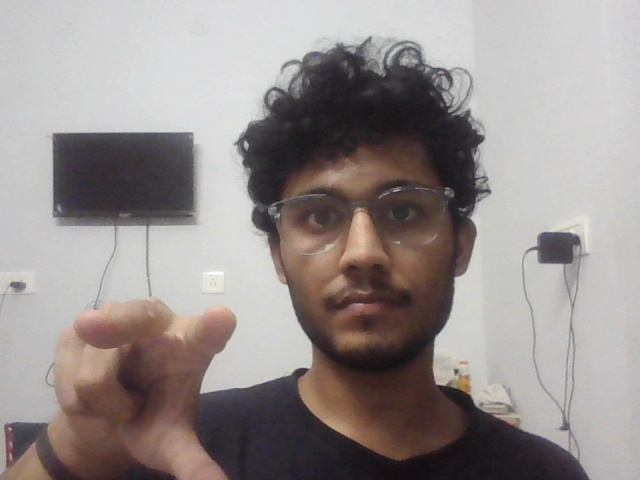No: (34, 290, 265, 480)
